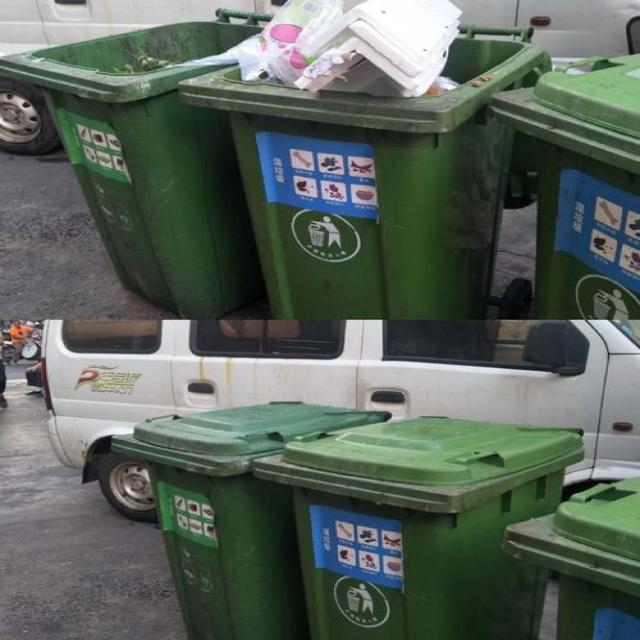garbage_bin: (1, 9, 270, 318), (253, 417, 582, 639), (112, 401, 390, 639), (488, 53, 638, 317)
overflow: (179, 2, 542, 316)
